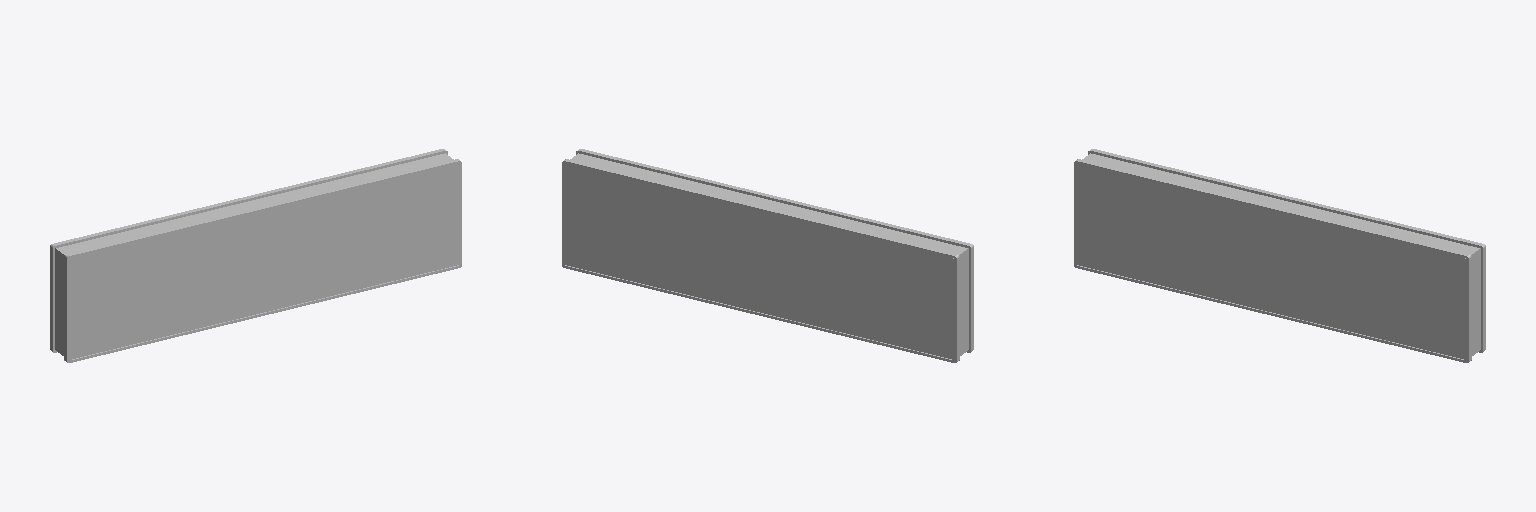
Rendered from feud_bar3.obj.
3 views of the same model, side by side, from view 1: azimuth 30°, elevation 25°; view 2: azimuth 150°, elevation 25°; view 3: azimuth 330°, elevation 25° (orthographic).
Parts seen in each view (by area): view 1: Plane; view 2: Plane; view 3: Plane.
Part boxes in pixels (x1,y1,x2,y2): Plane: (50,149,461,362); Plane: (562,149,973,362); Plane: (1074,149,1485,362).
Bounding box in the file's own units: 0.81 × 0.21 × 0.06.